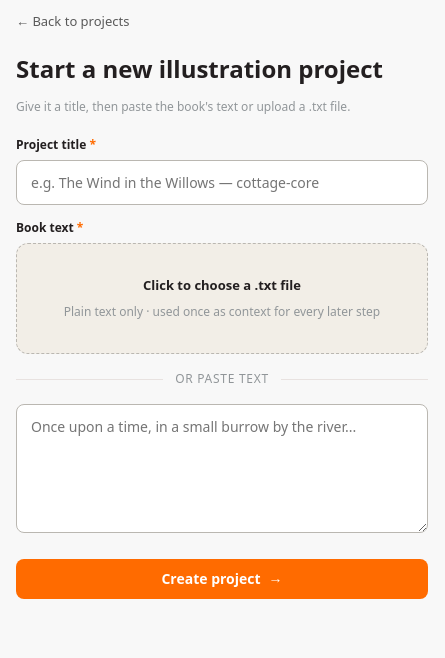
Test: NewProjectPage › shows the API error when create fails
Step 1. Type "River Bank" into the field with placeholder "e.g. The Wind in the Willows — cottage-core" → (222, 182), box 16,160 -> 428,205
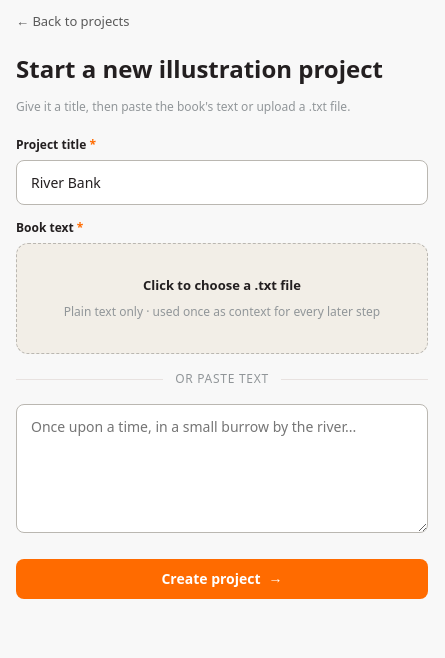
Step 2. Type "The Mole had been working." into the text box with placeholder "Once upon a time, in a small burrow by the river..." → (222, 469), box 16,404 -> 428,533
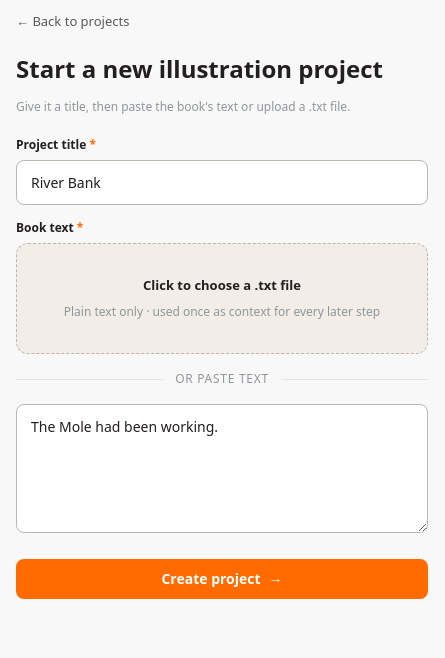
Step 3. Click the button "Create project →" → (222, 579), box 16,559 -> 428,599
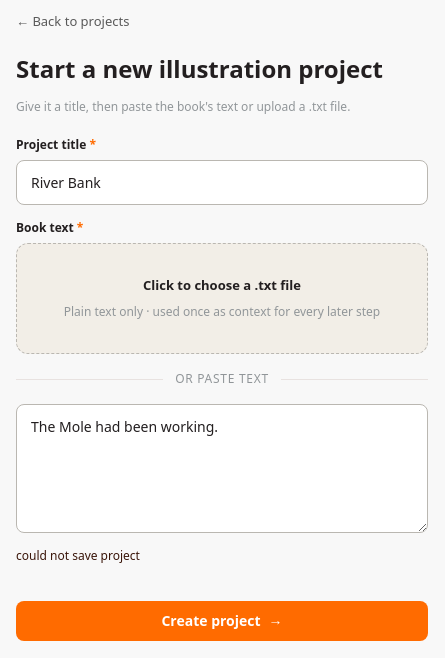
Now the text "could not save project" is shown, box 16,547 -> 140,564
